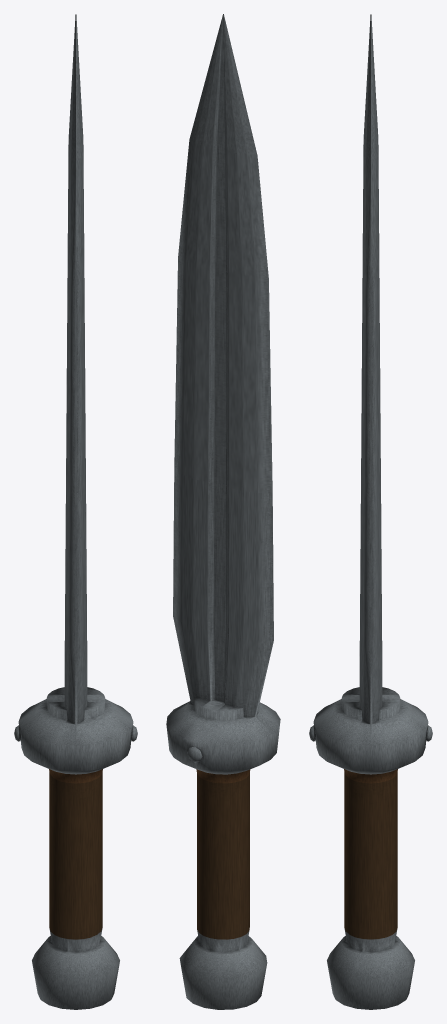
File: gladius-plain.glb
3 views of the same model, side by side, from view 1: azimuth 90°, elevation 25°; view 2: azimuth 150°, elevation 25°; view 3: azimuth 270°, elevation 25° (orthographic).
Parts seen in each view (by area): view 1: gladius-plain; view 2: gladius-plain; view 3: gladius-plain.
Part boxes in pixels (x1,y1,x2,y2): gladius-plain: [14, 14, 137, 1009]; gladius-plain: [166, 14, 280, 1009]; gladius-plain: [309, 14, 432, 1009].
Bounding box in the file's own units: 0.0788 × 0.74 × 0.084.
1 material, 1 textured.
